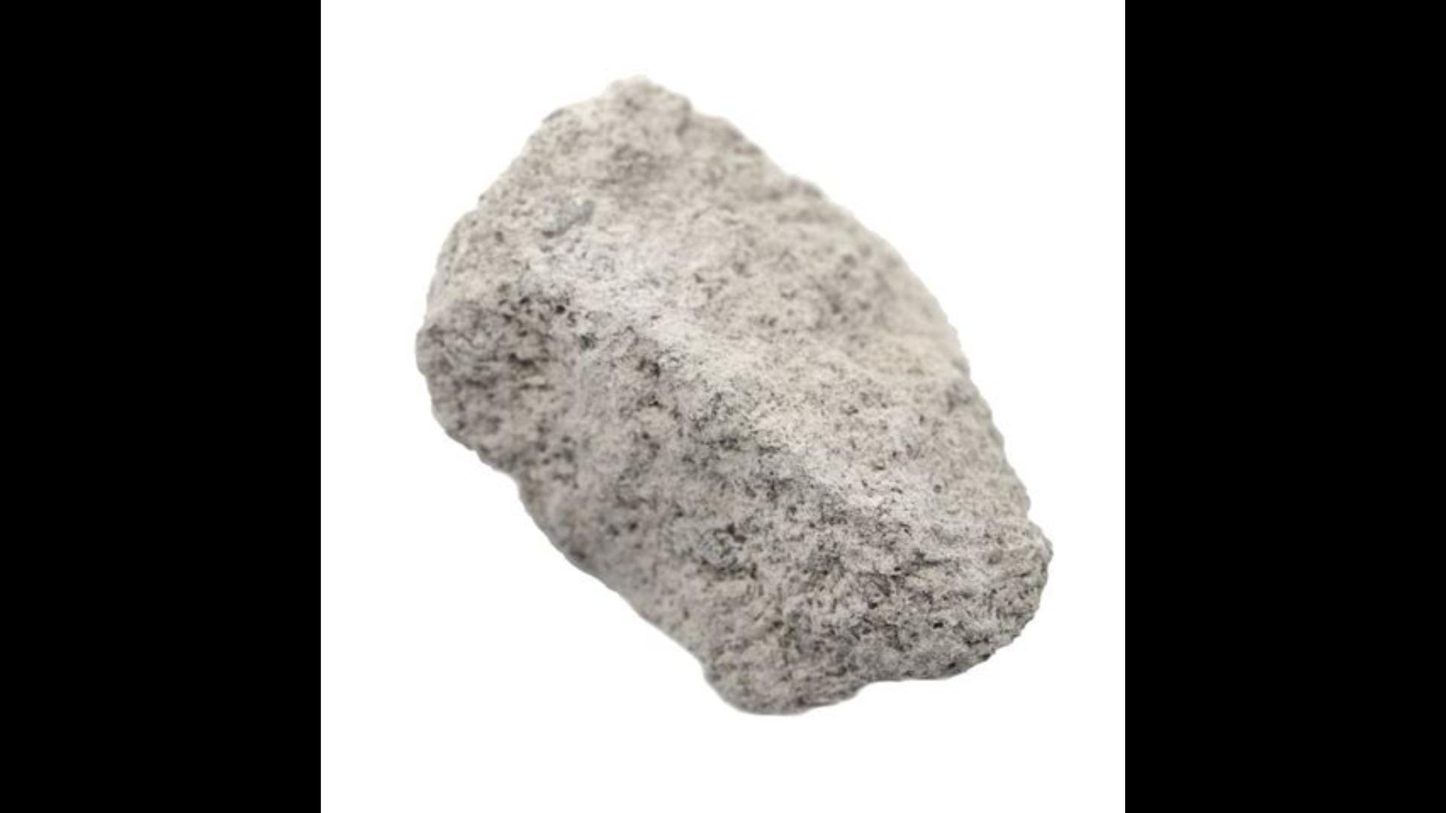rock: (416, 81, 1049, 709)
